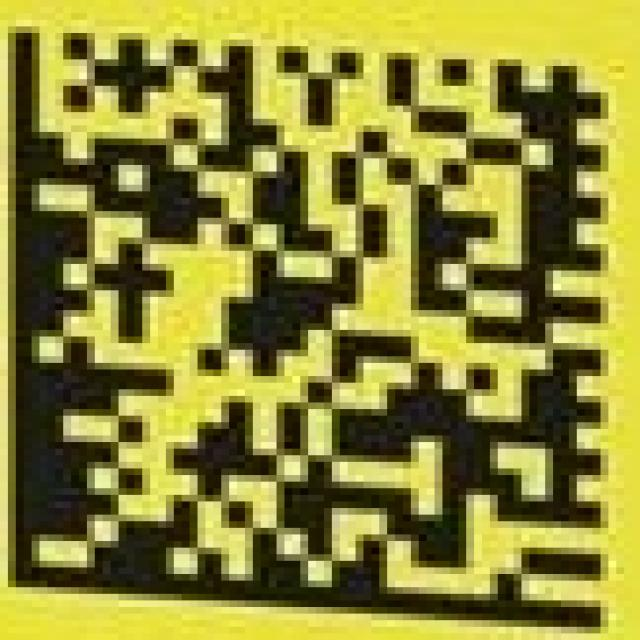QR_CODE: (7, 28, 606, 632)
